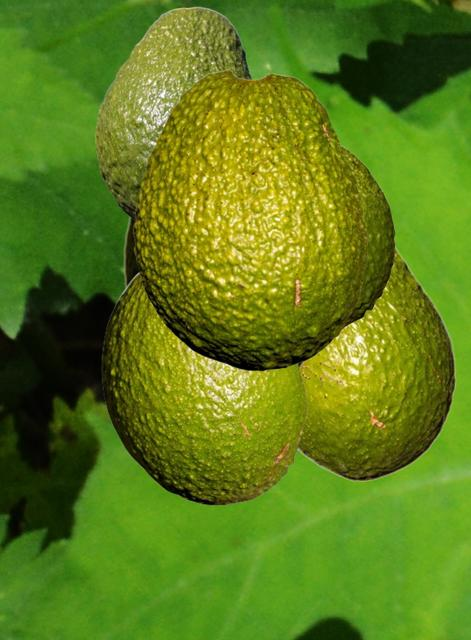avocado: (133, 69, 366, 370), (101, 273, 306, 504), (297, 242, 455, 480), (95, 6, 252, 221), (123, 217, 306, 368), (341, 144, 394, 329)
